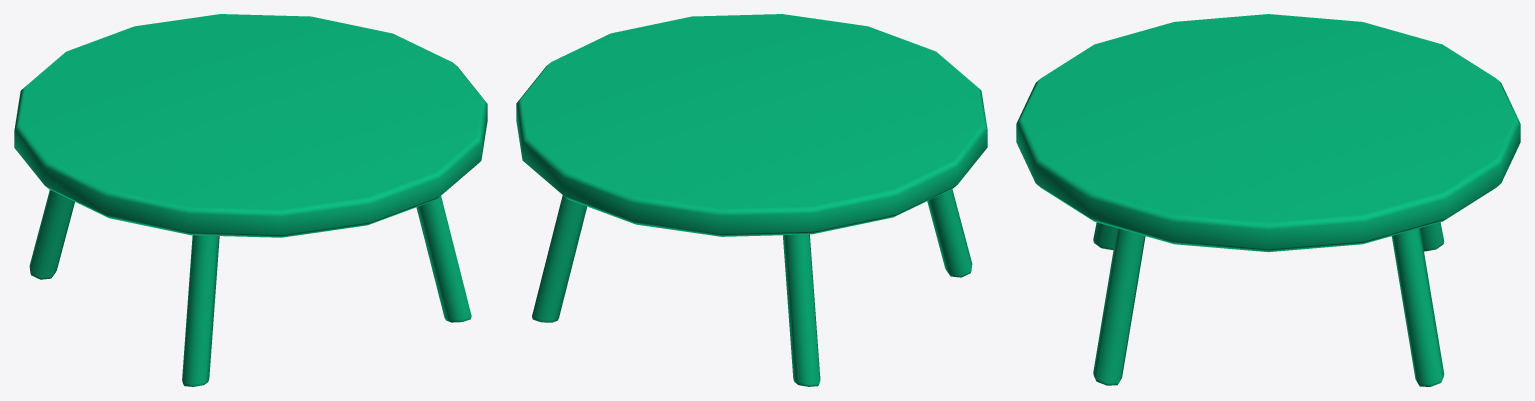
The model's file is elipse table.fbx.
3 views of the same model, side by side, from view 1: azimuth 30°, elevation 25°; view 2: azimuth 150°, elevation 25°; view 3: azimuth 270°, elevation 25° (orthographic). The views are drawn at different scales.
Parts seen in each view (by area): view 1: elipse_table; view 2: elipse_table; view 3: elipse_table.
Boxes of the visible parts, box(x1,y1,x2,y2) form: elipse_table: box(14, 14, 487, 386); elipse_table: box(516, 14, 987, 386); elipse_table: box(1016, 14, 1520, 386).
Bounding box in the file's own units: 45.3 × 19.59 × 45.3.
